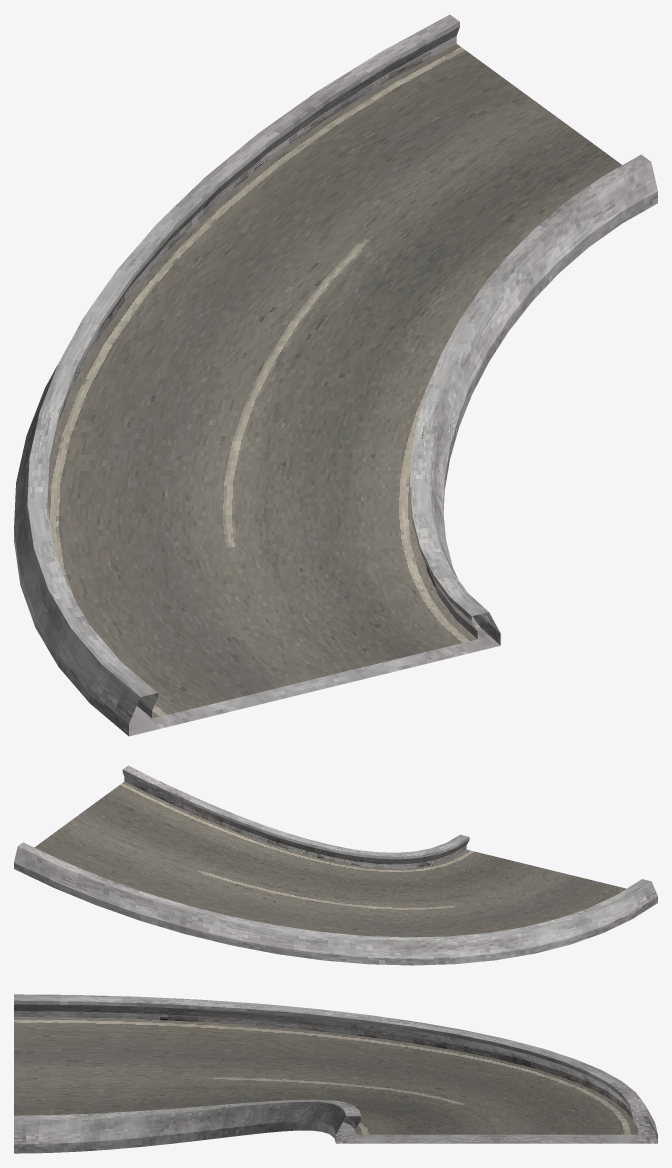
The model's file is road-Turn-Flat-BiSlopeUp-Up2-Right-Size2.glb.
3 views of the same model, one above another, from view 1: azimuth 30°, elevation 25°; view 2: azimuth 150°, elevation 25°; view 3: azimuth 270°, elevation 25° (orthographic). The views are drawn at different scales.
Parts seen in each view (by area): view 1: road-Turn-Flat-BiSlopeUp-Up2-Right-Size2; view 2: road-Turn-Flat-BiSlopeUp-Up2-Right-Size2; view 3: road-Turn-Flat-BiSlopeUp-Up2-Right-Size2.
Boxes of the visible parts, x1,y1,x2,y2 form: road-Turn-Flat-BiSlopeUp-Up2-Right-Size2: (14,14,657,736); road-Turn-Flat-BiSlopeUp-Up2-Right-Size2: (14,765,657,965); road-Turn-Flat-BiSlopeUp-Up2-Right-Size2: (14,994,657,1153).
Bounding box in the file's own units: 2 × 0.5938 × 2.
Materials: 2 (2 with a texture image).
